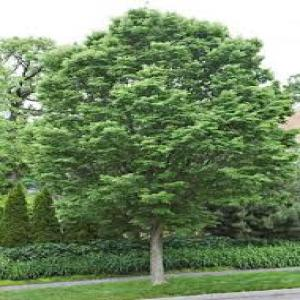Tree: (27, 3, 295, 281)
